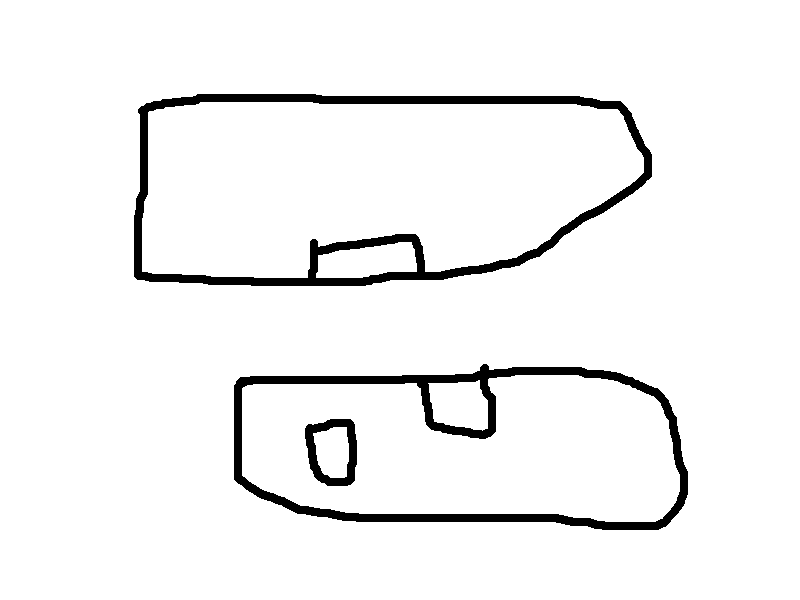dog: (126, 88, 662, 291), (224, 369, 699, 538), (402, 364, 507, 447), (294, 234, 437, 285), (296, 415, 366, 493)
